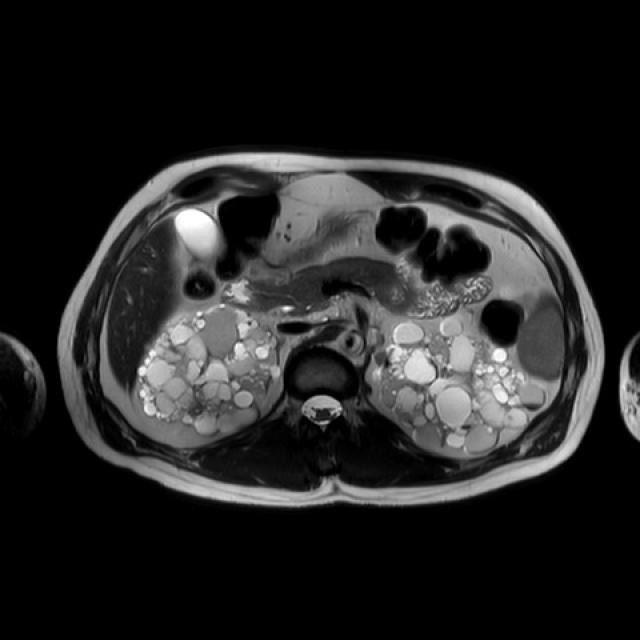sag: (136, 302, 281, 435)
sol: (371, 315, 546, 457)
